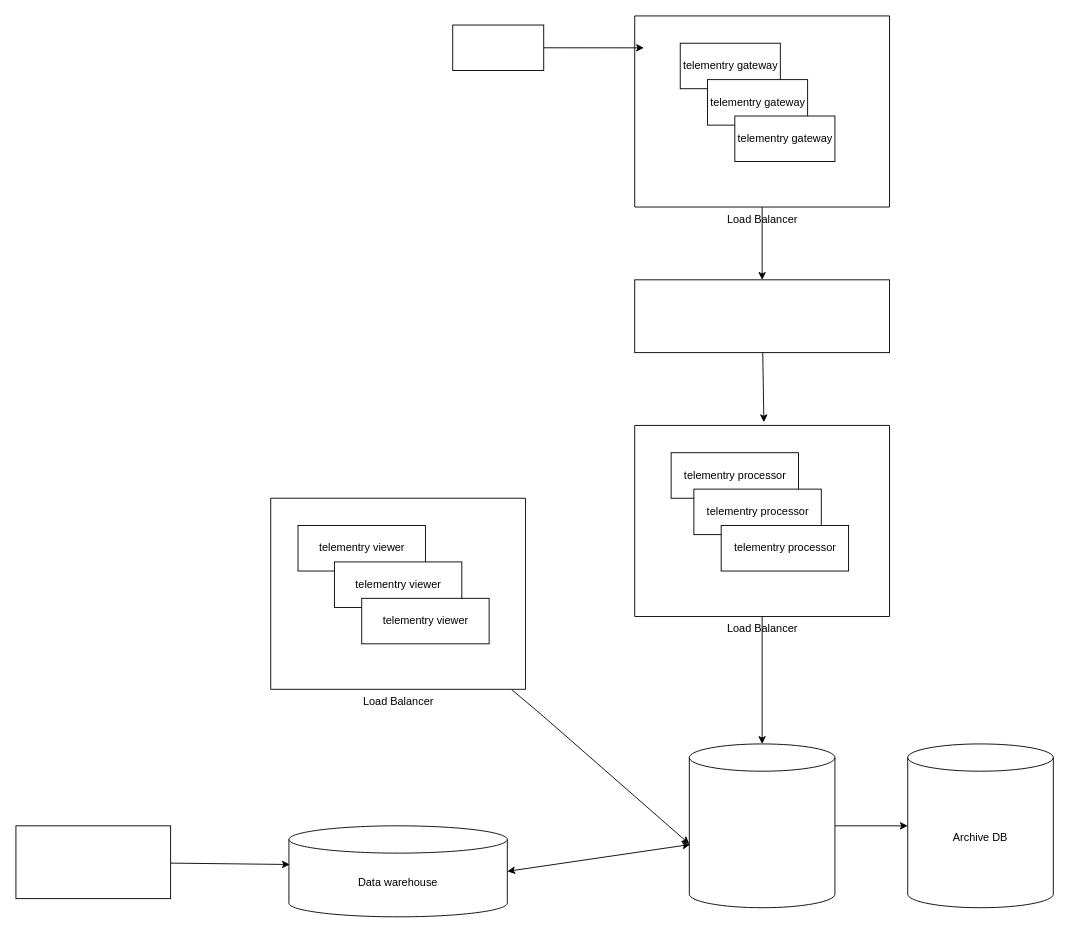
Some shapes in this 1069 by 933 pixel diagram are drawn without their labels. Each missing label, with the centre of its shape:
"BI Application" goes at pixel 93 862.
"Cars" goes at pixel 498 47.
"Operational DB" goes at pixel 761 825.
"telementry pipeline" goes at pixel 762 316.
